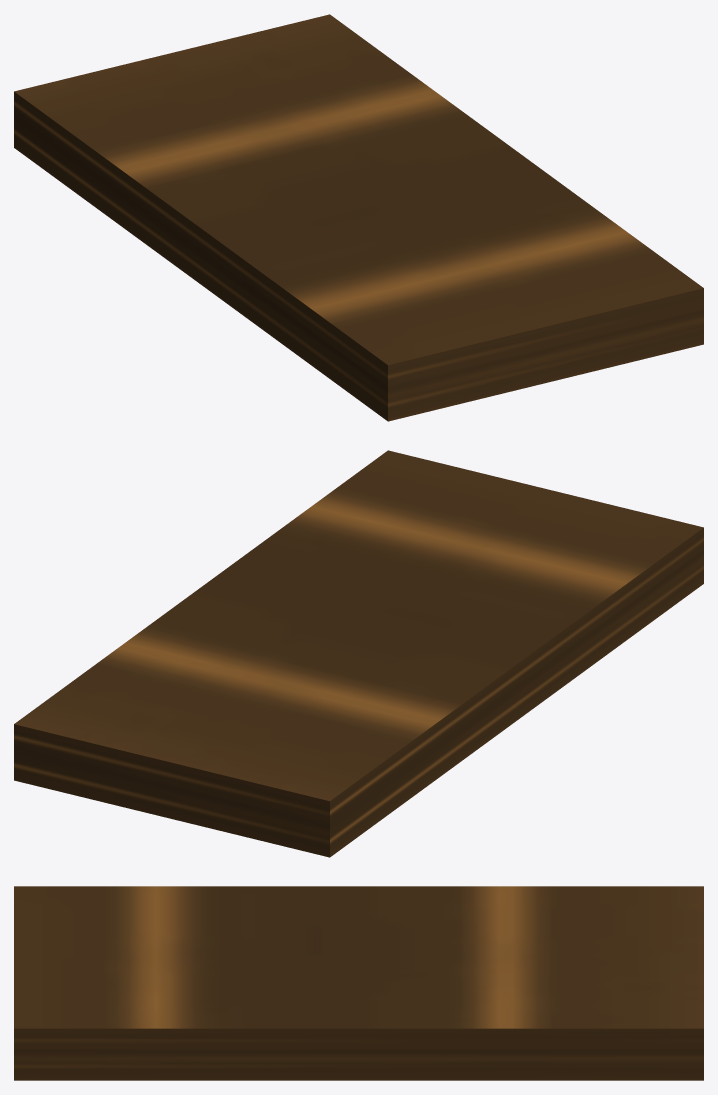
File: ceiling_lightA.fbx
3 renders of one model, top to bottom at view 1: azimuth 30°, elevation 25°; view 2: azimuth 150°, elevation 25°; view 3: azimuth 270°, elevation 25°, orthographic. The views are drawn at different scales.
Parts seen in each view (by area): view 1: ceiling_lightA; view 2: ceiling_lightA; view 3: ceiling_lightA.
Part boxes in pixels (x1,y1,x2,y2): ceiling_lightA: [14, 14, 703, 421]; ceiling_lightA: [14, 450, 703, 857]; ceiling_lightA: [14, 886, 703, 1080].
Size of the model in its own units: 69.19 by 11.79 by 142.
1 material, 1 textured.
